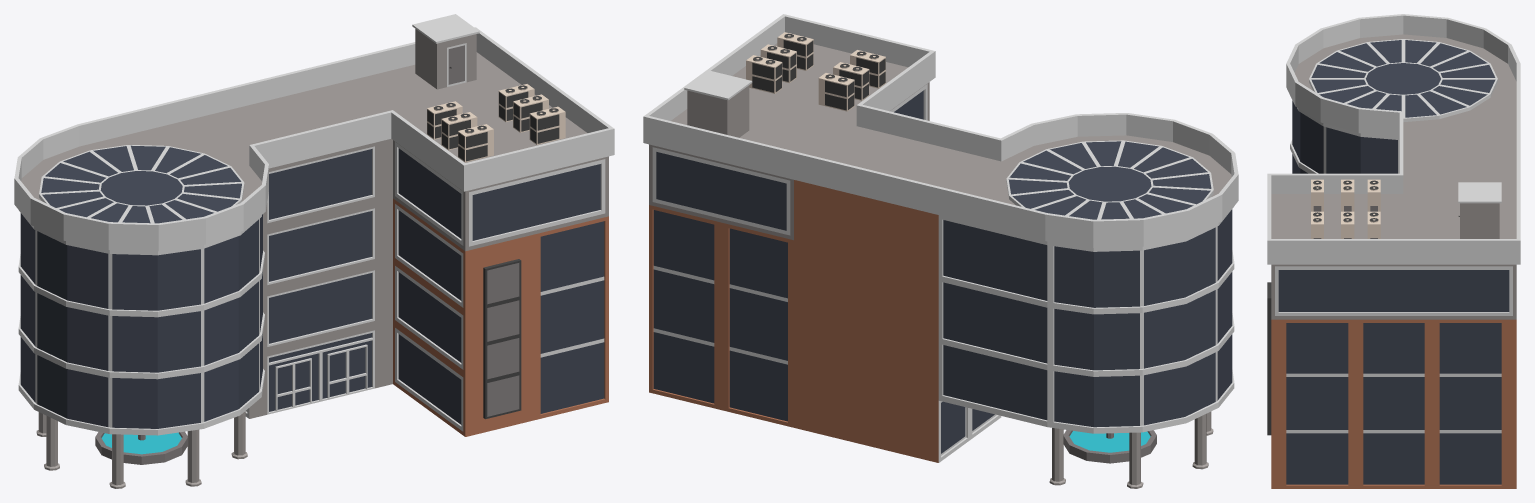
The model's file is building-mall.fbx.
3 renders of one model, left to right at view 1: azimuth 30°, elevation 25°; view 2: azimuth 150°, elevation 25°; view 3: azimuth 270°, elevation 25°, orthographic. The views are drawn at different scales.
Visible parts, largest first — view 1: building-mall; view 2: building-mall; view 3: building-mall.
Part boxes in pixels (x1,y1,x2,y2): building-mall: [14, 14, 614, 488]; building-mall: [643, 14, 1238, 488]; building-mall: [1267, 14, 1520, 488].
Size of the model in its own units: 28.4 by 16.1 by 13.4.
